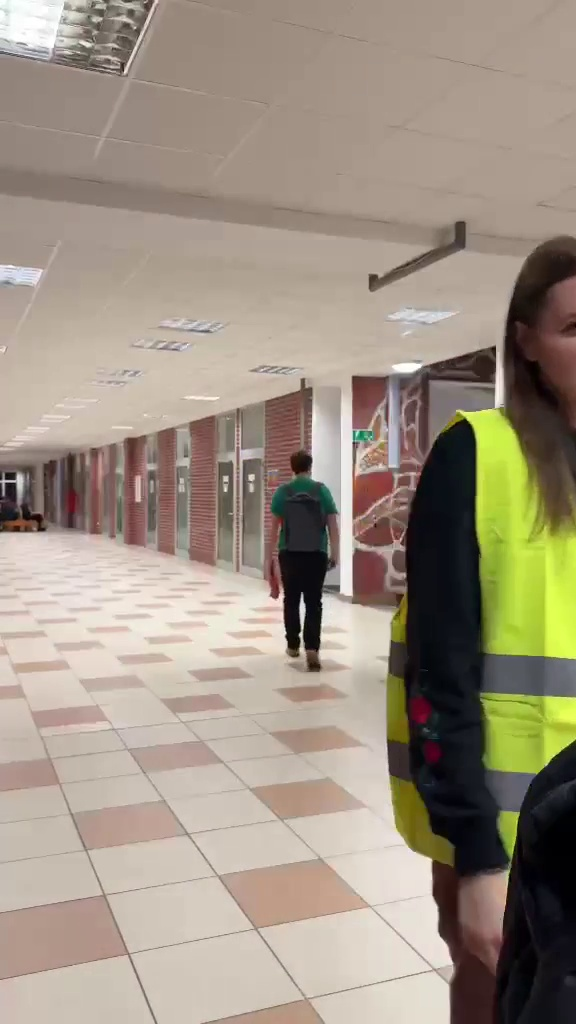no vest: (251, 446, 342, 681)
vest: (398, 231, 576, 964)
